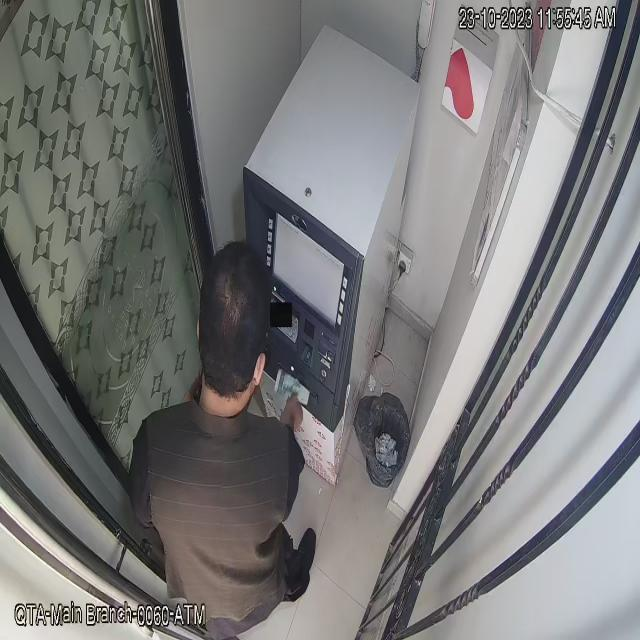note: (270, 358, 314, 414)
